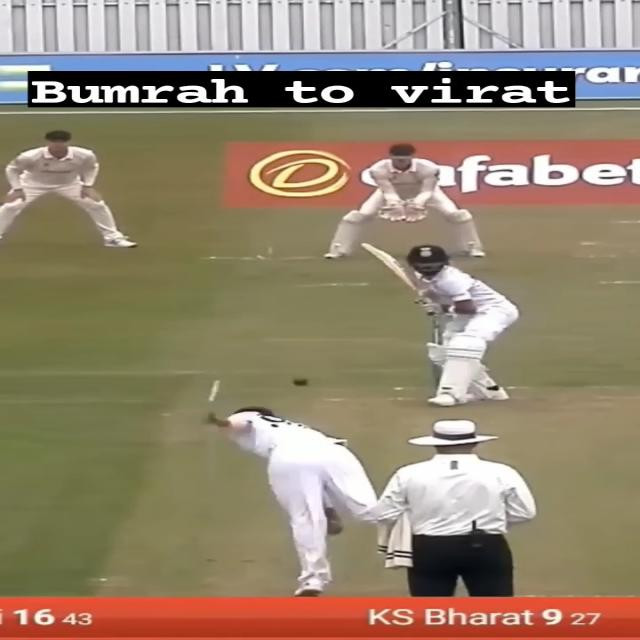Cricket ball: (290, 374, 312, 387)
